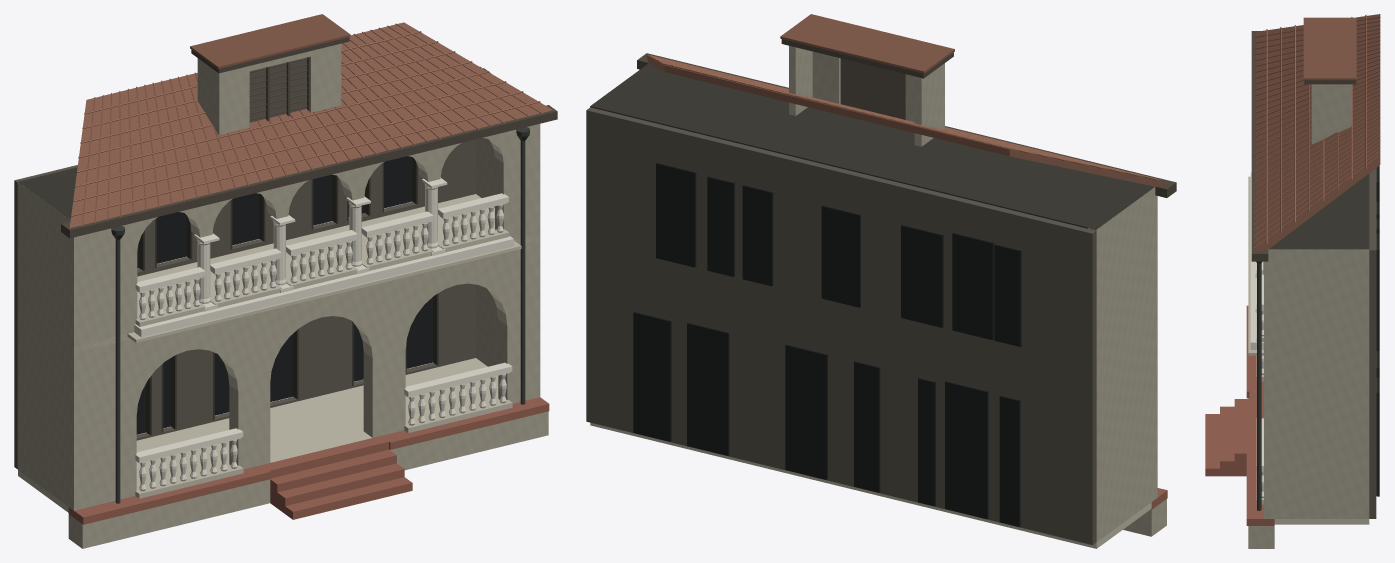
File: xuhui-dongping-five-south-arcade-lod.glb
3 views of the same model, side by side, from view 1: azimuth 30°, elevation 25°; view 2: azimuth 150°, elevation 25°; view 3: azimuth 270°, elevation 25° (orthographic). The views are drawn at different scales.
Parts seen in each view (by area): view 1: 东平路5号花园住宅南敞廊; view 2: 东平路5号花园住宅南敞廊; view 3: 东平路5号花园住宅南敞廊.
Part boxes in pixels (box(x1,y1,x2,y2)): 东平路5号花园住宅南敞廊: box(14, 14, 557, 548); 东平路5号花园住宅南敞廊: box(586, 14, 1176, 548); 东平路5号花园住宅南敞廊: box(1205, 14, 1380, 548).
Bounding box in the file's own units: 10.78 × 8.87 × 3.58.
Materials: 12 (1 with a texture image).
